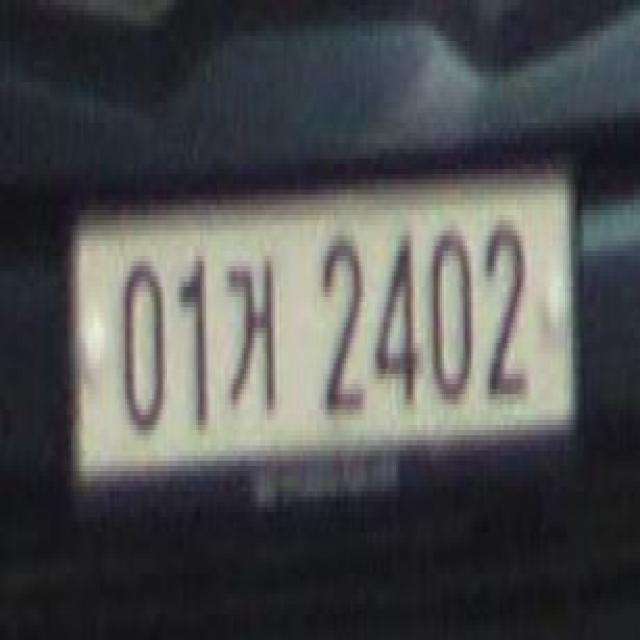illegal_plate: (73, 138, 580, 524)
